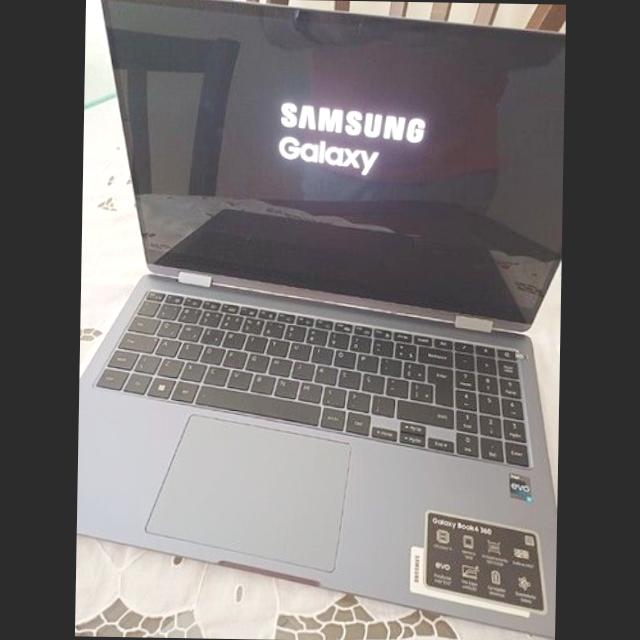laptop: (78, 0, 565, 623)
